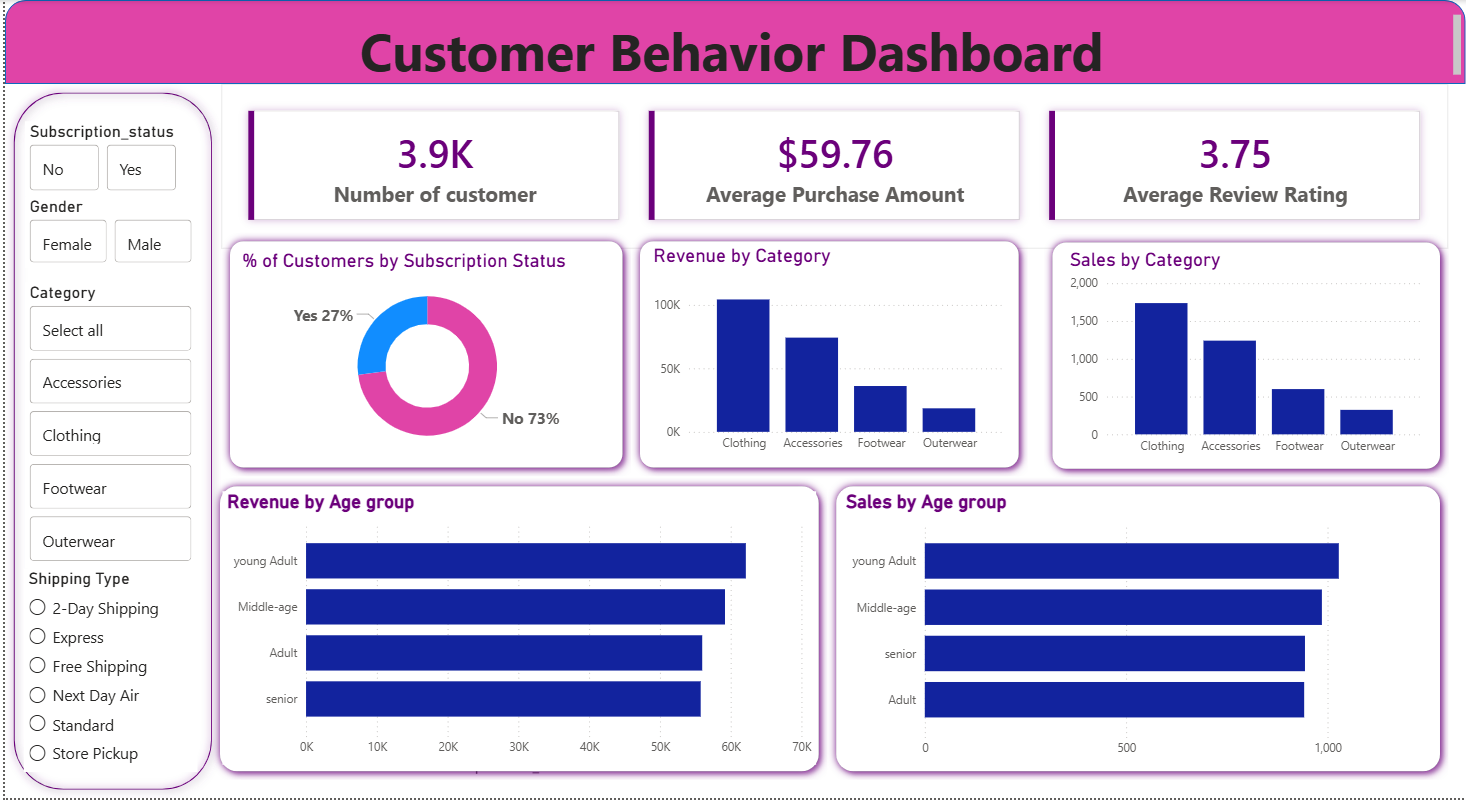

This screenshot's page, from the dashboard's own definition file:
{"tool":"powerbi","page":{"name":"Page 1","canvas":[1500,820],"ordinal":0},"visuals":[{"type":"cardVisual","fields":{"Data":["public customer.Number of customer","public customer.Average Purchase Amount","public customer.Average Review Rating"]},"box":[222.1,85.8,1260.5,169],"z":0},{"type":"shape","box":[0,0,1499.9,86.3],"z":1000},{"type":"textbox","box":[0,9.7,1499.9,76.6],"z":2000},{"type":"shape","box":[643.1,238.8,406.9,250.3],"z":3000},{"type":"clusteredColumnChart","title":"Revenue by Category","fields":{"Y":["Sum(public customer.purchase_amount)"],"Category":["public customer.category"]},"box":[661.1,251.6,371,222.1],"z":4000},{"type":"shape","box":[1066.7,240,415.9,250.3],"z":5000},{"type":"shape","box":[222.1,238.8,421,250.3],"z":6000},{"type":"donutChart","title":"% of Customers by Subscription Status","fields":{"Category":["public customer.subscription_status"],"Y":["Count(public customer.customer_id)"]},"box":[238.8,256.7,390.2,216.9],"z":7000},{"type":"clusteredColumnChart","title":"Sales by Category","fields":{"Category":["public customer.category"],"Y":["CountNonNull(public customer.customer_id)"]},"box":[1088.5,255.4,372.3,220.8],"z":8000},{"type":"shape","box":[0,86.3,221.4,733.9],"z":9000},{"type":"advancedSlicerVisual","title":"Subscription_status","fields":{"Values":["public customer.subscription_status"]},"box":[20.9,123.9,161.5,76.6],"z":10000},{"type":"advancedSlicerVisual","title":"Gender","fields":{"Values":["public customer.gender"]},"box":[20.9,201.9,176.9,73.8],"z":11000},{"type":"advancedSlicerVisual","title":"Category","fields":{"Values":["public customer.category"]},"box":[20.9,289.7,176.9,293.9],"z":12000},{"type":"listSlicer","fields":{"Values":["public customer.shipping_type"]},"box":[19.5,583.5,178.3,208.9],"z":13000},{"type":"clusteredBarChart","fields":{"Y":["Sum(public customer.purchase_amount)"],"Category":["public customer.age_group"]},"box":[279.9,518.1,378.8,281.3],"z":14000},{"type":"shape","box":[211.8,490.4,632.8,310.6],"z":15000},{"type":"clusteredBarChart","title":"Revenue by Age group","fields":{"Y":["Sum(public customer.purchase_amount)"],"Category":["public customer.age_group"]},"box":[223.4,504.5,609.7,281.1],"z":16000},{"type":"shape","box":[844.7,490.4,638,310.6],"z":17000},{"type":"clusteredBarChart","title":"Sales by Age group","fields":{"Category":["public customer.age_group"],"Y":["CountNonNull(public customer.customer_id)"]},"box":[858.5,504.2,602.3,282.1],"z":18000}]}

Visuals, with their boxes in screenshot pixels (x1, y1, x2, y2), scaled from the page's 1500x820 canvas onto the 1466x802 screenshot:
cardVisual - public customer.Number of customer x public customer.Average Purchase Amount: 217 84 1449 249
shape: 0 0 1465 84
textbox: 0 9 1465 84
shape: 629 234 1026 478
"Revenue by Category" clusteredColumnChart: 646 246 1009 463
shape: 1043 235 1449 480
shape: 217 234 629 478
"% of Customers by Subscription Status" donutChart: 233 251 615 463
"Sales by Category" clusteredColumnChart: 1064 250 1428 466
shape: 0 84 216 801
"Subscription_status" advancedSlicerVisual: 20 121 178 196
"Gender" advancedSlicerVisual: 20 197 193 270
"Category" advancedSlicerVisual: 20 283 193 571
listSlicer - public customer.shipping_type: 19 571 193 775
clusteredBarChart - Sum(public customer.purchase_amount) x public customer.age_group: 274 507 644 782
shape: 207 480 825 783
"Revenue by Age group" clusteredBarChart: 218 493 814 768
shape: 826 480 1449 783
"Sales by Age group" clusteredBarChart: 839 493 1428 769
